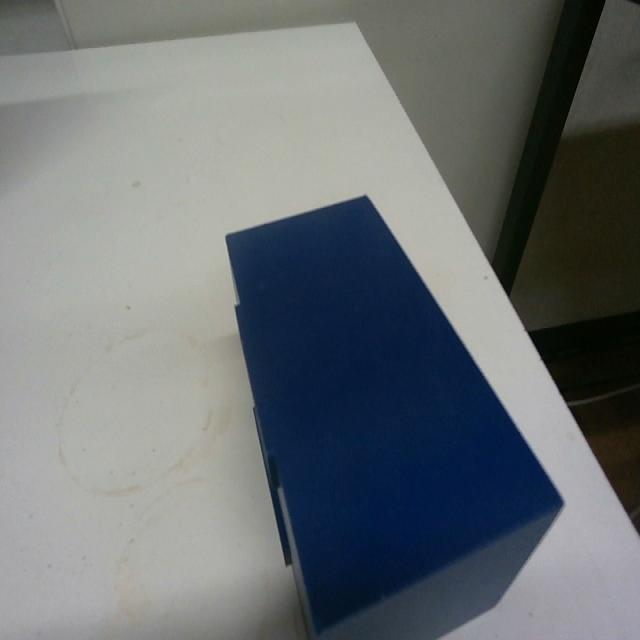Blue Cuboid: (223, 190, 566, 638)
